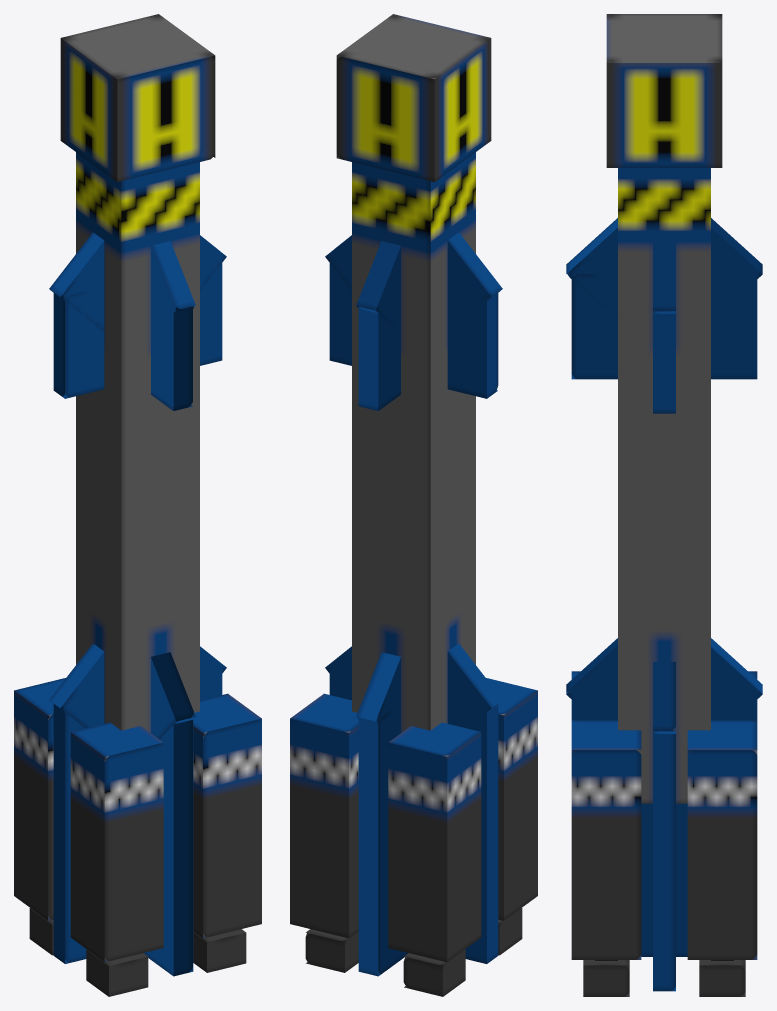
Rendered from missile_base_t3.obj.
3 renders of one model, left to right at view 1: azimuth 30°, elevation 25°; view 2: azimuth 150°, elevation 25°; view 3: azimuth 270°, elevation 25°, orthographic. The views are drawn at different scales.
Parts seen in each view (by area): view 1: group_1, Component_54, group_0, Component_46, Component_49, Component_50, Component_47, Component_52; view 2: group_1, Component_54, group_0, Component_46, Component_49, Component_50, Component_47, Component_52; view 3: group_1, Component_54, group_0, Component_49, Component_46, Component_47, Component_50, Component_52.
Part boxes in pixels (box(x1,y1,x2,y2)): group_1: box(76, 152, 199, 732); Component_54: box(14, 678, 261, 962); group_0: box(60, 14, 215, 182); Component_46: box(53, 669, 222, 976); Component_49: box(53, 258, 222, 410); Component_50: box(49, 232, 226, 336); Component_47: box(49, 643, 226, 739); Component_52: box(29, 908, 246, 996); group_1: box(352, 77, 475, 732); Component_54: box(290, 678, 537, 962); group_0: box(336, 14, 491, 182); Component_46: box(329, 669, 498, 976); Component_49: box(329, 258, 498, 410); Component_50: box(325, 232, 502, 334); Component_47: box(325, 643, 502, 728); Component_52: box(305, 908, 522, 996); group_1: box(618, 168, 710, 803); Component_54: box(571, 671, 757, 959); group_0: box(606, 14, 722, 167); Component_49: box(571, 274, 757, 413); Component_46: box(571, 694, 757, 991); Component_47: box(566, 638, 762, 733); Component_50: box(566, 218, 762, 318); Component_52: box(583, 960, 745, 996).
Size of the model in its own units: 107 by 554 by 107.
